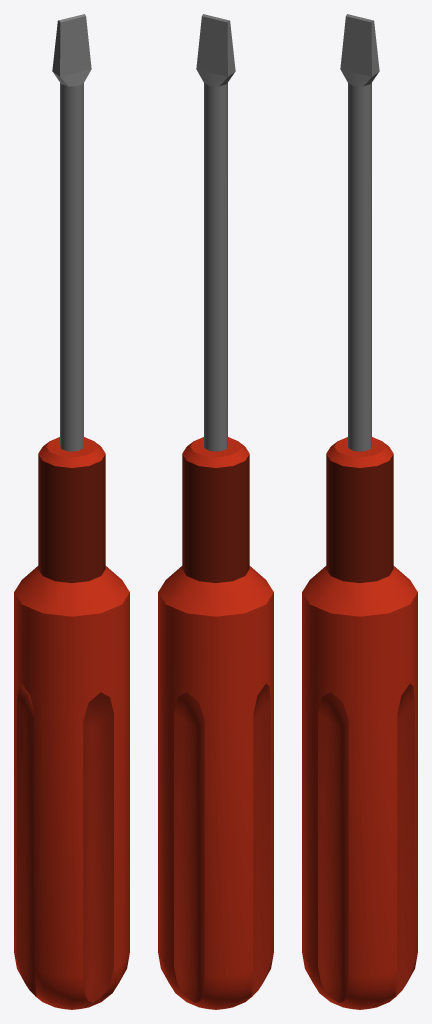
Rendered from PR_ScrewDriver_V01.fbx.
3 renders of one model, left to right at view 1: azimuth 30°, elevation 25°; view 2: azimuth 150°, elevation 25°; view 3: azimuth 330°, elevation 25°, orthographic.
Parts seen in each view (by area): view 1: GEO_Screw_Driver; view 2: GEO_Screw_Driver; view 3: GEO_Screw_Driver.
Part boxes in pixels (bbox=[...]): GEO_Screw_Driver: bbox=[14, 14, 129, 1009]; GEO_Screw_Driver: bbox=[158, 14, 273, 1009]; GEO_Screw_Driver: bbox=[302, 14, 417, 1009].
Bounding box in the file's own units: 2.9 × 27.24 × 2.9.
1 material, 1 textured.
